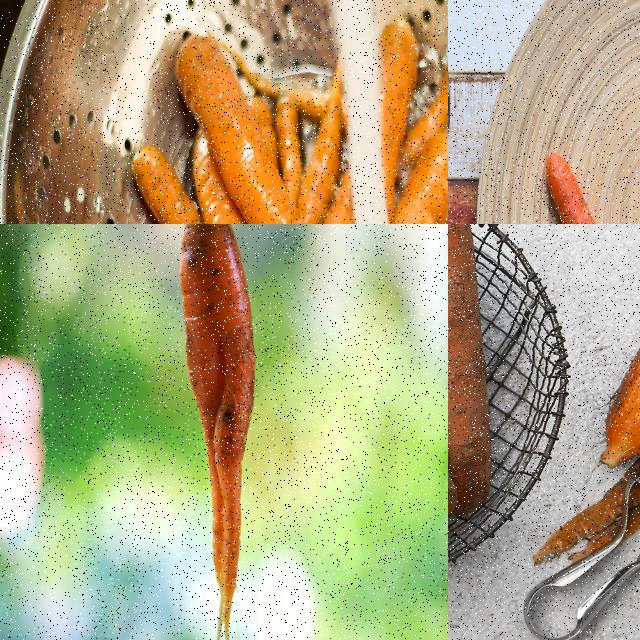carrot: (109, 0, 447, 223), (177, 224, 259, 639), (448, 224, 491, 520), (596, 286, 639, 469)
